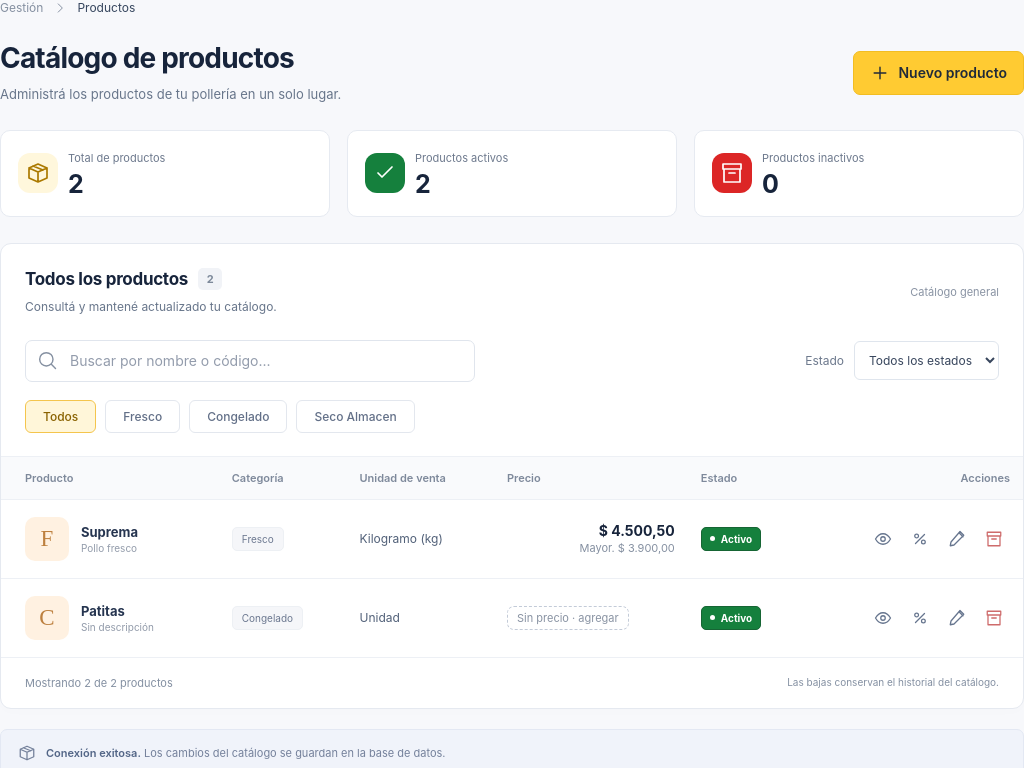
Scenario: Catálogo de productos conectado a la API › oculta el código en la consulta y conserva el campo para edición
expect the button "Suprema" is shown: met, box x1=81 y1=524 x2=138 y2=540
expect the text "POL-001" is not shown: met
Step 1. Click the button named "Ver Suprema" → (883, 539), box x1=867 y1=523 x2=899 y2=555
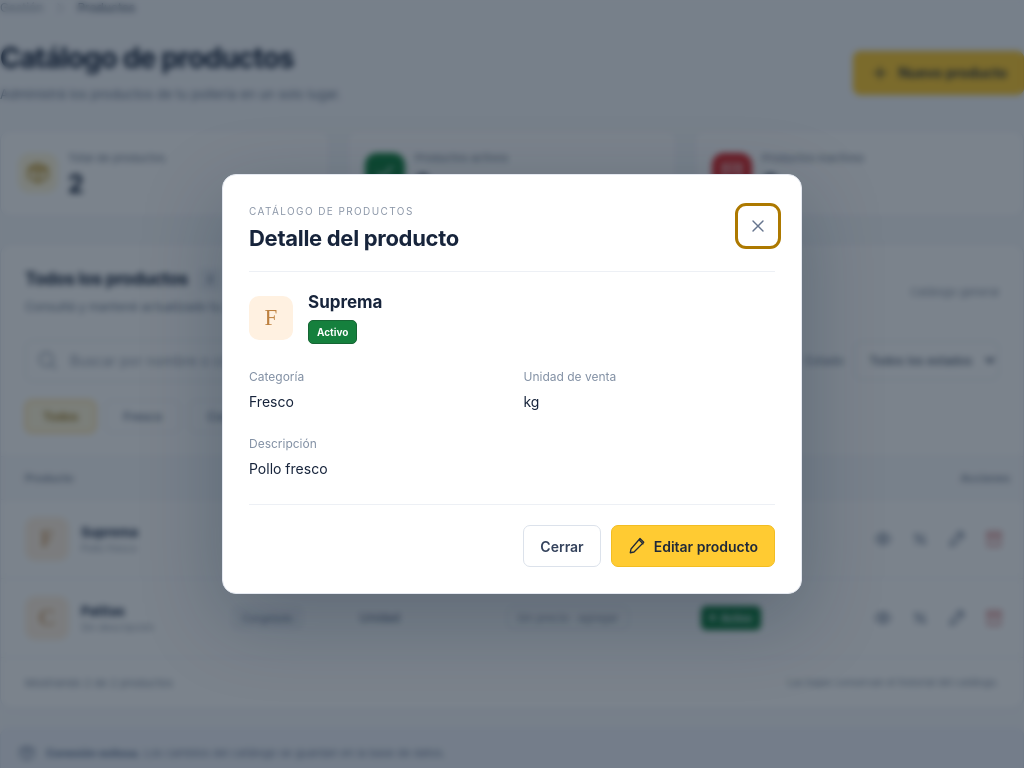
expect the text "POL-001" is not shown: met
Step 2. Click the button "Editar producto" → (693, 546), box x1=611 y1=525 x2=775 y2=567
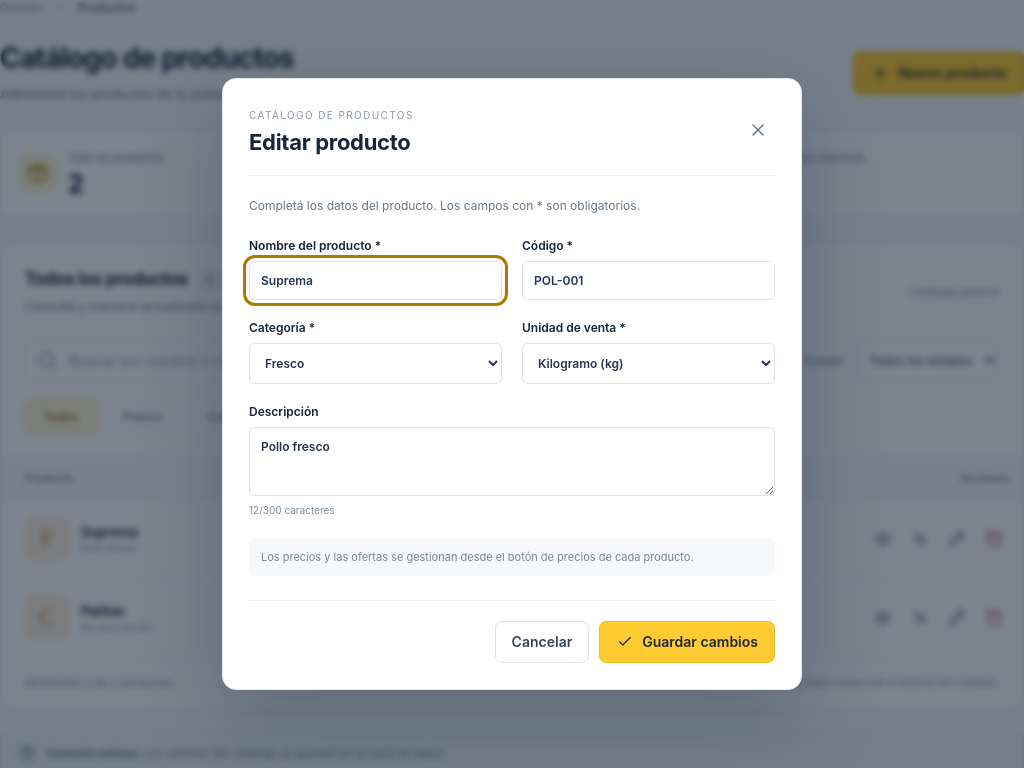
expect the field labelled "Código *" holds "POL-001": met, box x1=522 y1=261 x2=775 y2=300
